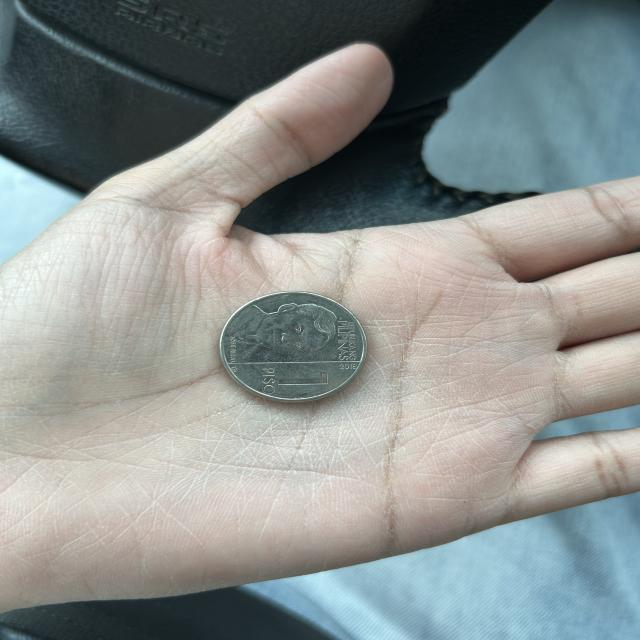1_New_Front: (253, 360, 331, 400)
